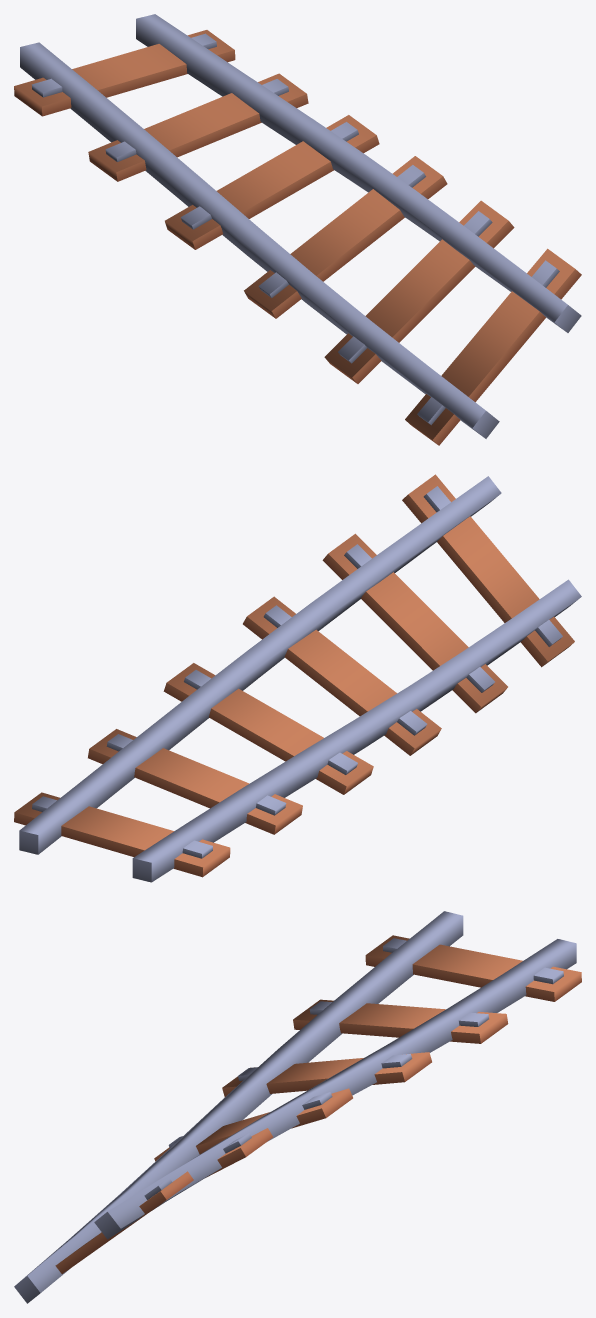
Rendered from railroad-straight-skew-right.glb.
3 views of the same model, one above another, from view 1: azimuth 30°, elevation 25°; view 2: azimuth 150°, elevation 25°; view 3: azimuth 330°, elevation 25° (orthographic). The views are drawn at different scales.
Visible parts, largest first — view 1: railroad-straight-skew-right; view 2: railroad-straight-skew-right; view 3: railroad-straight-skew-right.
Boxes of the visible parts, box(x1,y1,x2,y2) form: railroad-straight-skew-right: box(14, 14, 581, 445); railroad-straight-skew-right: box(14, 474, 581, 882); railroad-straight-skew-right: box(14, 911, 581, 1303).
Size of the model in its own units: 1 by 0.7105 by 4.
